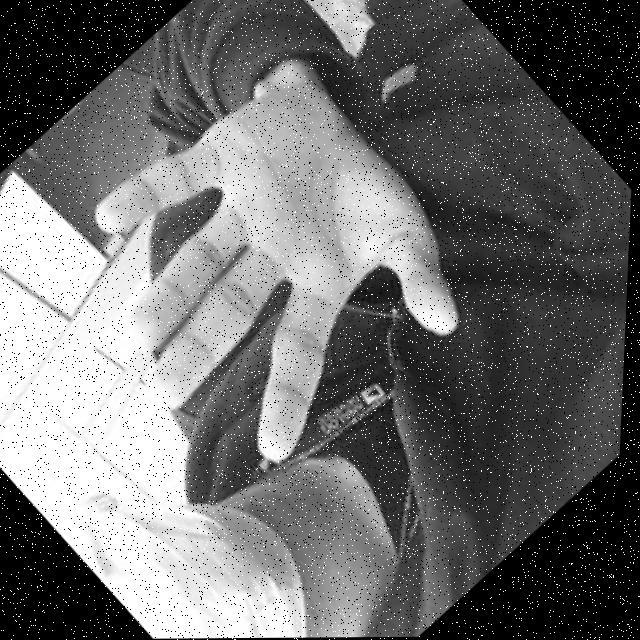no-gloves: (22, 29, 520, 514)
